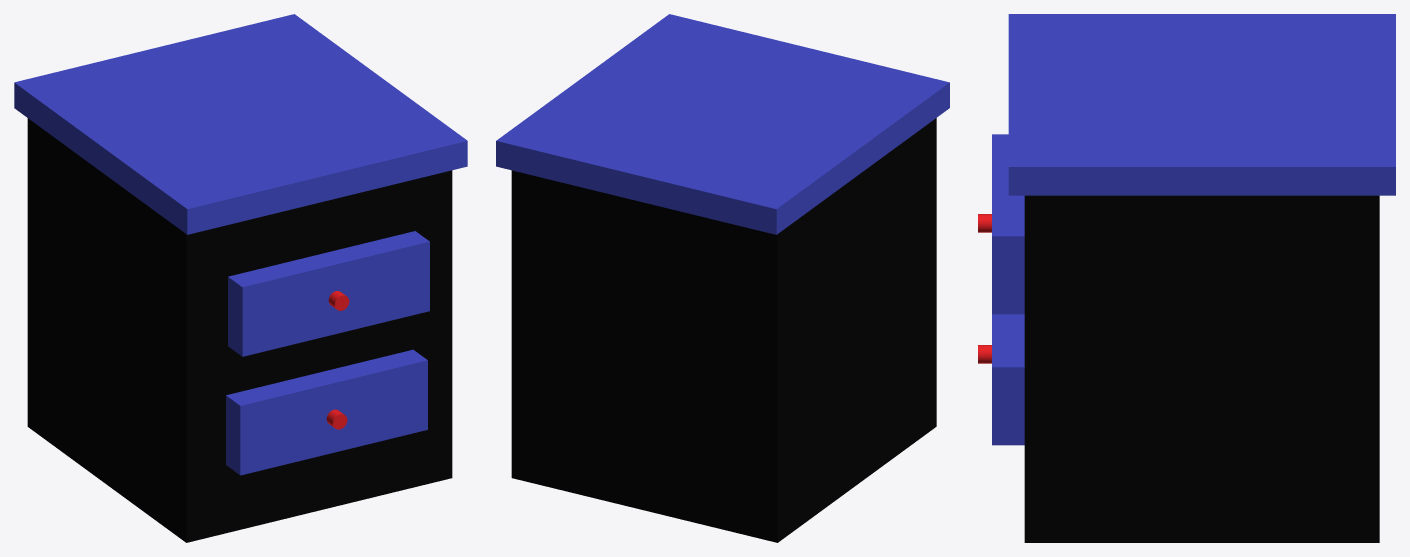
The model's file is desk.fbx.
The picture shows the model from 3 angles, left to right: view 1: azimuth 30°, elevation 25°; view 2: azimuth 150°, elevation 25°; view 3: azimuth 270°, elevation 25°; orthographic projection. The views are drawn at different scales.
Parts seen in each view (by area): view 1: root (×4); view 2: root (×2); view 3: root (×4).
Boxes of the visible parts, x1,y1,x2,y2 form: root (×4): (14, 14, 467, 542); root (×2): (496, 14, 949, 542); root (×4): (992, 14, 1395, 542).
Bounding box in the file's own units: 0.2683 × 0.3113 × 0.3097.
Materials: 4 (2 with a texture image).
